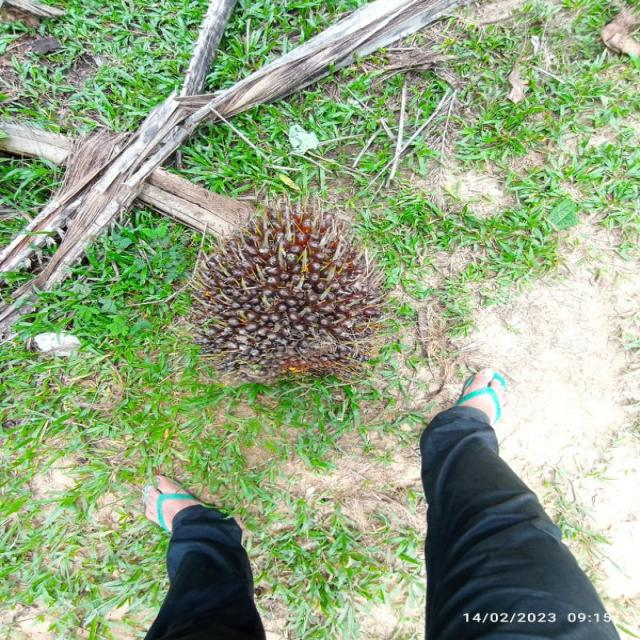fraksi 1: (180, 200, 390, 389)
